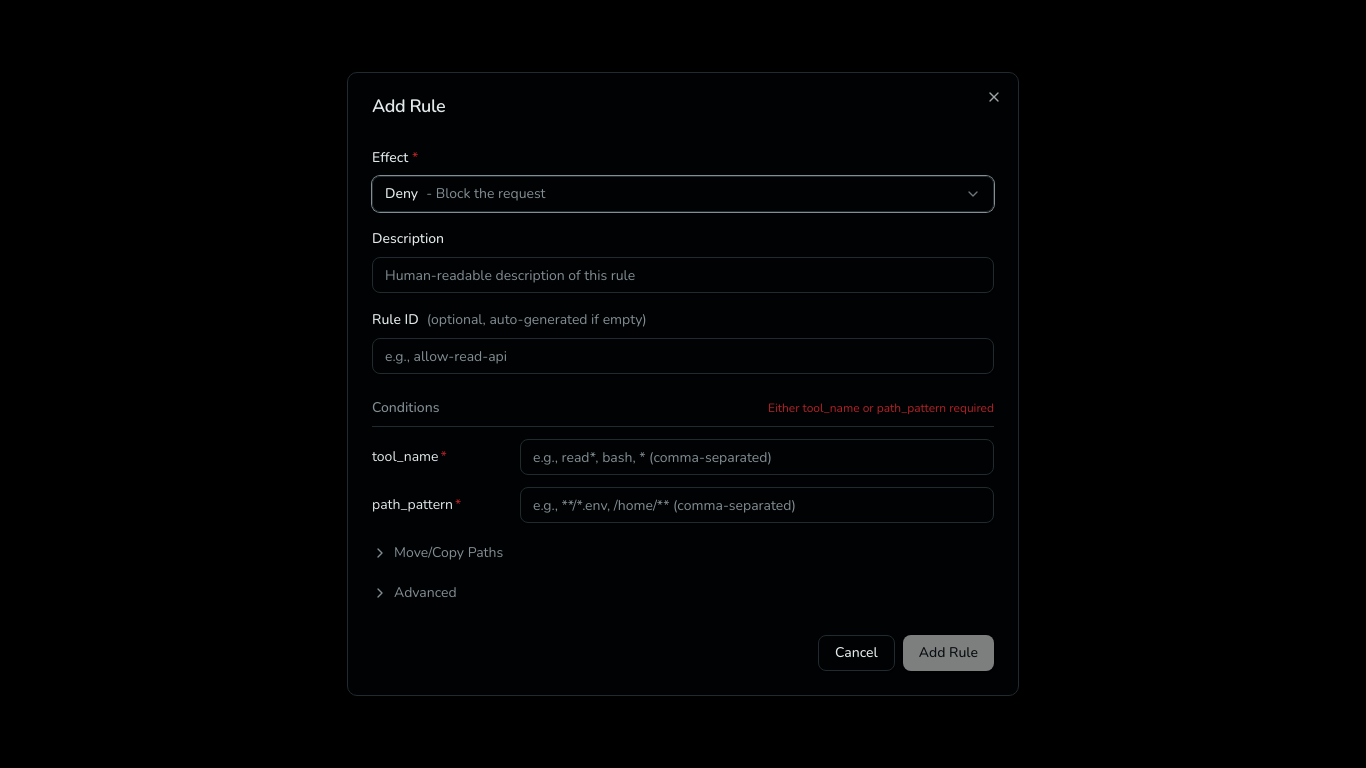
Test: RuleFormDialog › collapsible sections › Advanced collapsed by default, expands on click
The image size is (1366, 768).
expect the field labelled "extension" is not shown: met
Click the button "Advanced" at [414, 589], box x1=372 y1=575 x2=457 y2=603
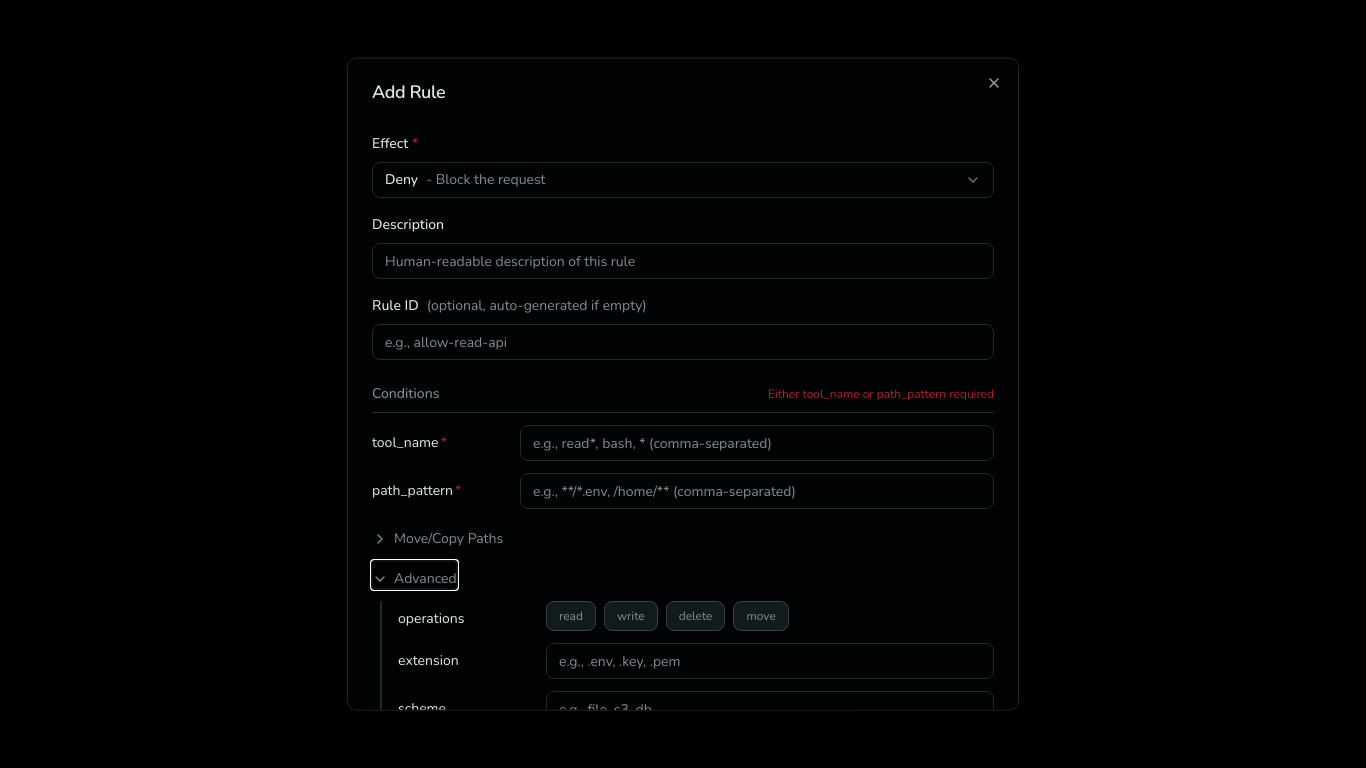
expect the field labelled "extension" is shown: met, box x1=546 y1=643 x2=994 y2=679
